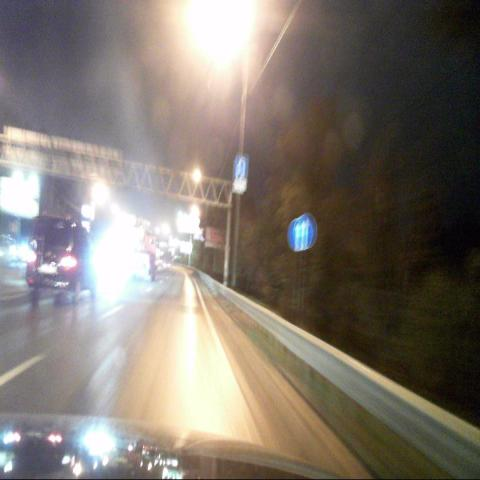4_1_1: (298, 213, 316, 248)
6_3_1: (235, 154, 248, 178)
